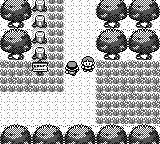captura: (0, 0, 65, 92), (96, 61, 159, 124)
leer: (32, 62, 48, 75)
main: (65, 61, 79, 75)
no-caminable: (96, 0, 159, 60), (0, 126, 159, 143), (0, 0, 32, 60), (32, 1, 47, 60)
npc: (81, 57, 95, 72)
